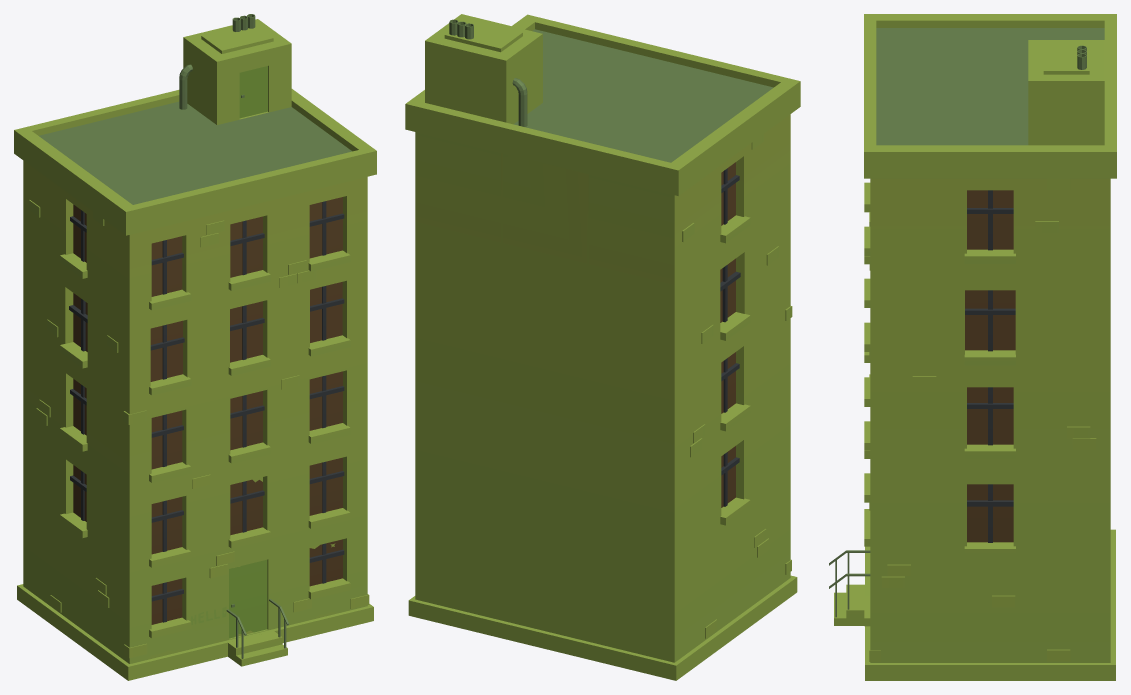
The model's file is House_04.fbx.
The picture shows the model from 3 angles, left to right: view 1: azimuth 30°, elevation 25°; view 2: azimuth 150°, elevation 25°; view 3: azimuth 270°, elevation 25°; orthographic projection. The views are drawn at different scales.
Visible parts, largest first — view 1: House_04; view 2: House_04; view 3: House_04.
Boxes of the visible parts, <box> form: House_04: <box>14,14,376,680</box>; House_04: <box>405,14,800,680</box>; House_04: <box>829,14,1116,680</box>.
Bounding box in the file's own units: 7.14 × 14.74 × 6.29.
